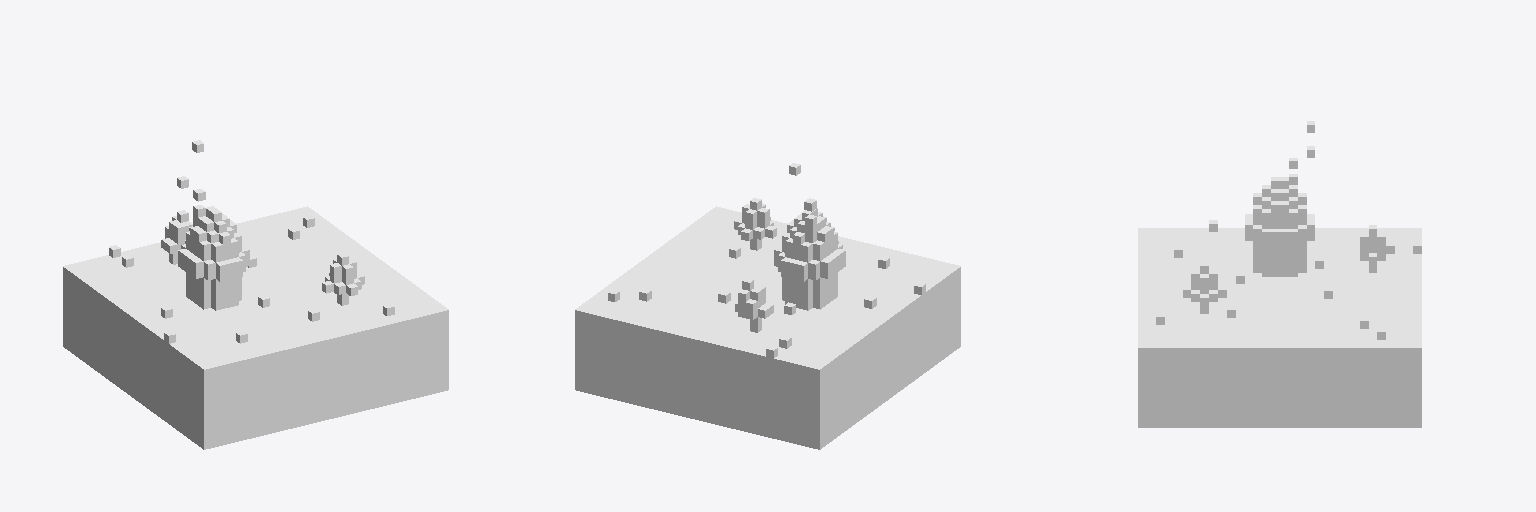
File: Overworld_Land_13.obj
3 renders of one model, left to right at view 1: azimuth 30°, elevation 25°; view 2: azimuth 150°, elevation 25°; view 3: azimuth 270°, elevation 25°, orthographic.
Parts seen in each view (by area): view 1: object 1; view 2: object 1; view 3: object 1.
Boxes of the visible parts, <box> form: object 1: <box>63,140,448,449</box>; object 1: <box>575,163,960,449</box>; object 1: <box>1138,121,1421,427</box>.
Bounding box in the file's own units: 3.2 × 2.8 × 3.2.